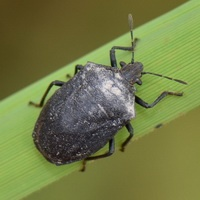insect: (29, 14, 186, 169)
